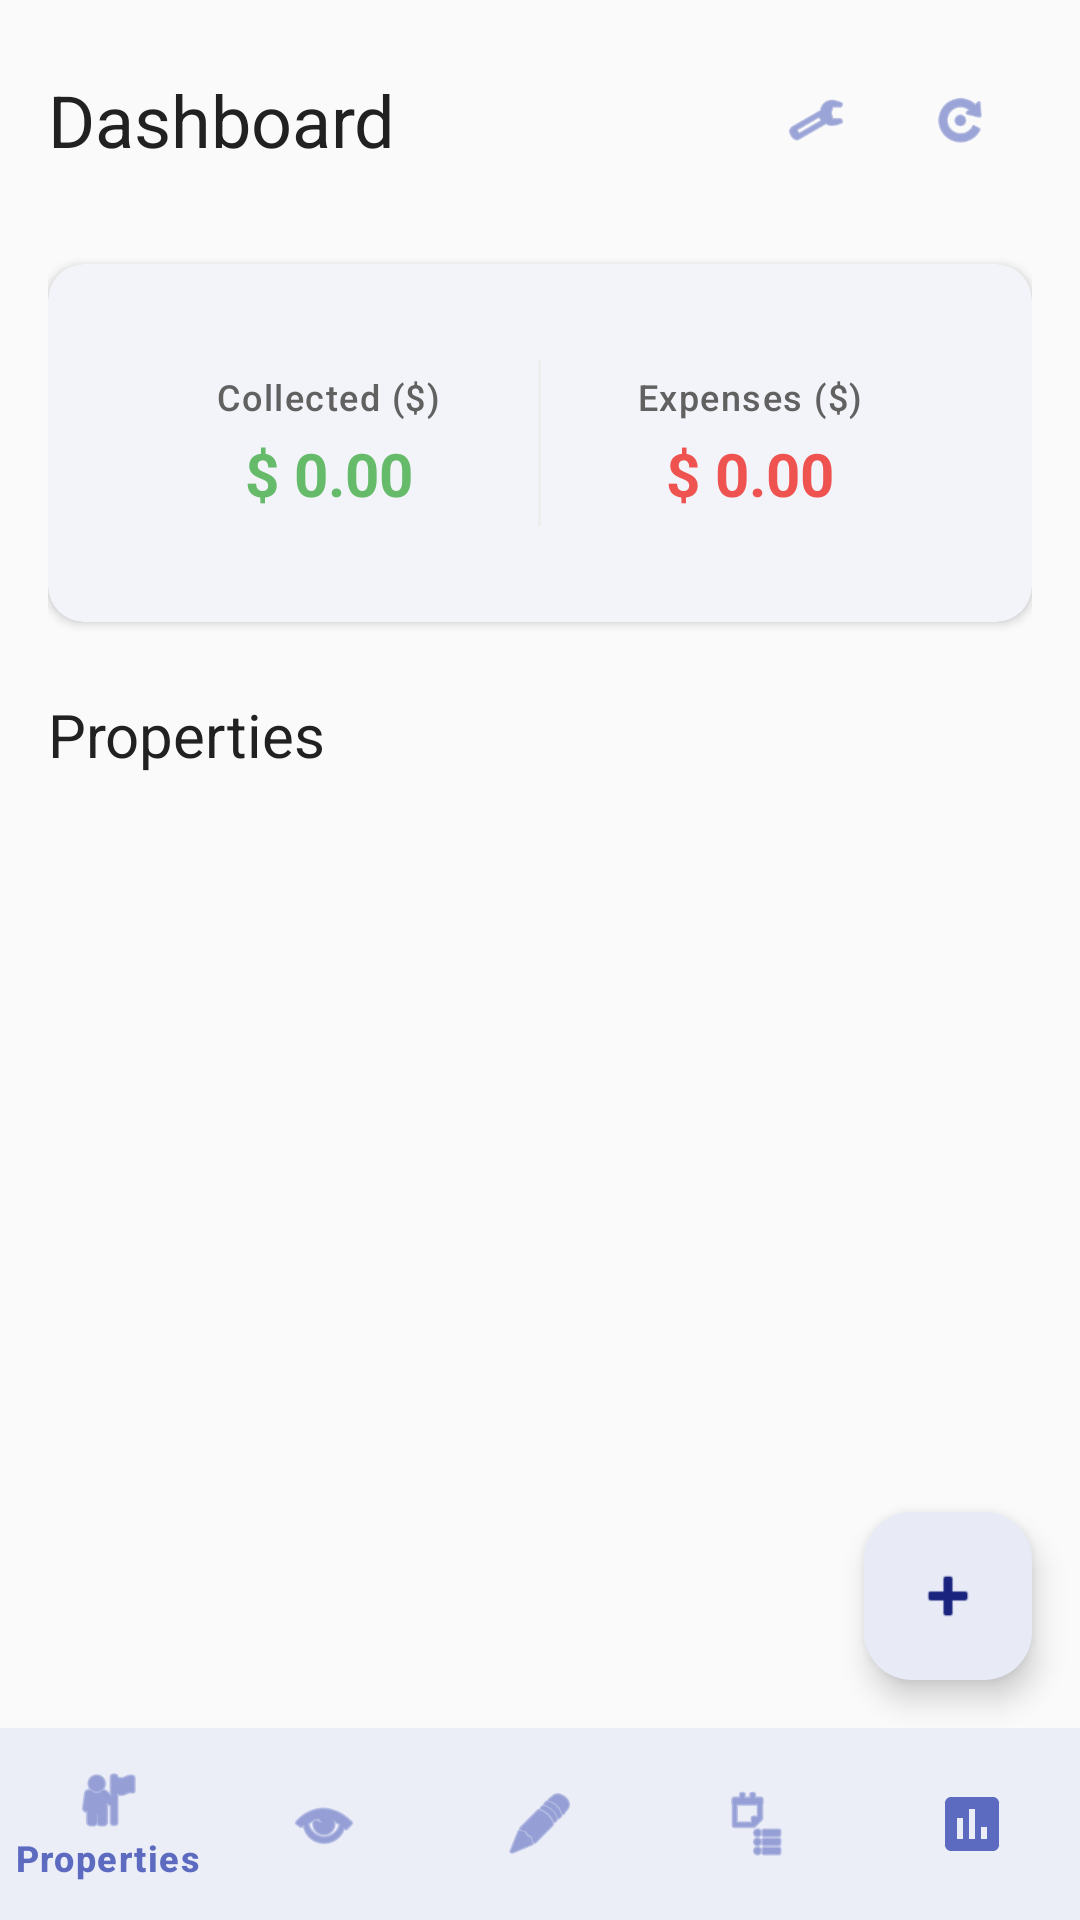

Point at icon controls on the screen. Image size 1080*1920, points as (x,y).
Add Property: (948,1596)
Refresh: (960,120)
Settings: (816,120)
